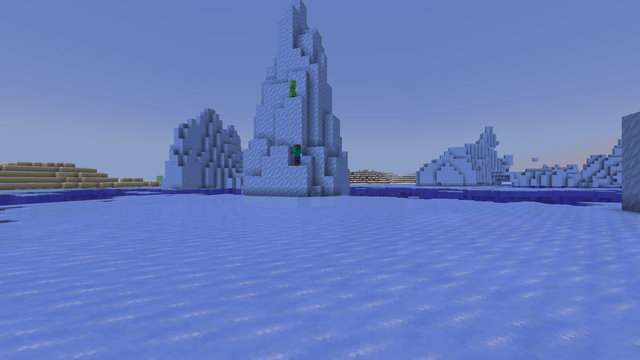creepers: (288, 78, 295, 96)
zombies: (293, 144, 301, 165)
